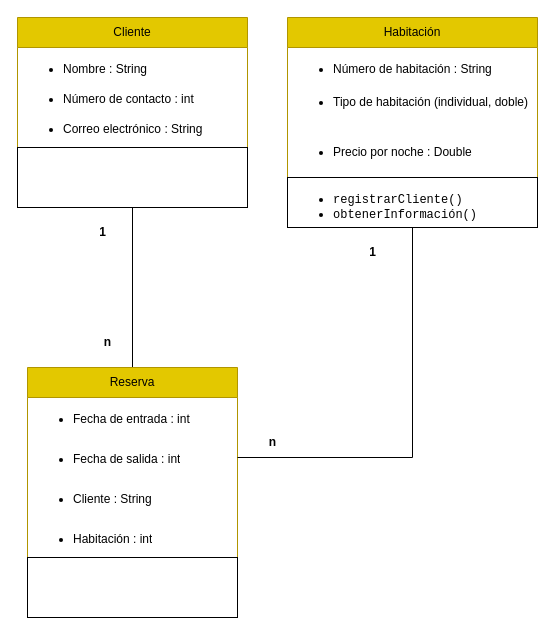
The diagram is 555 pixels wide and 635 high, and some of its shapes have lost their labels. The shapes that lost their labels are listed below. From the top down, each one's centre as x and y in pixels, then its label:
At point 132,177: "comprobarDisponibilidad() cambiarEstado()".
At point 132,587: "calcularCostoTotal() confirmarReserva()".
